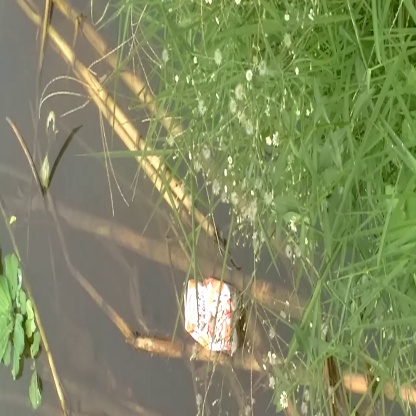milk-box: (176, 268, 249, 359)
